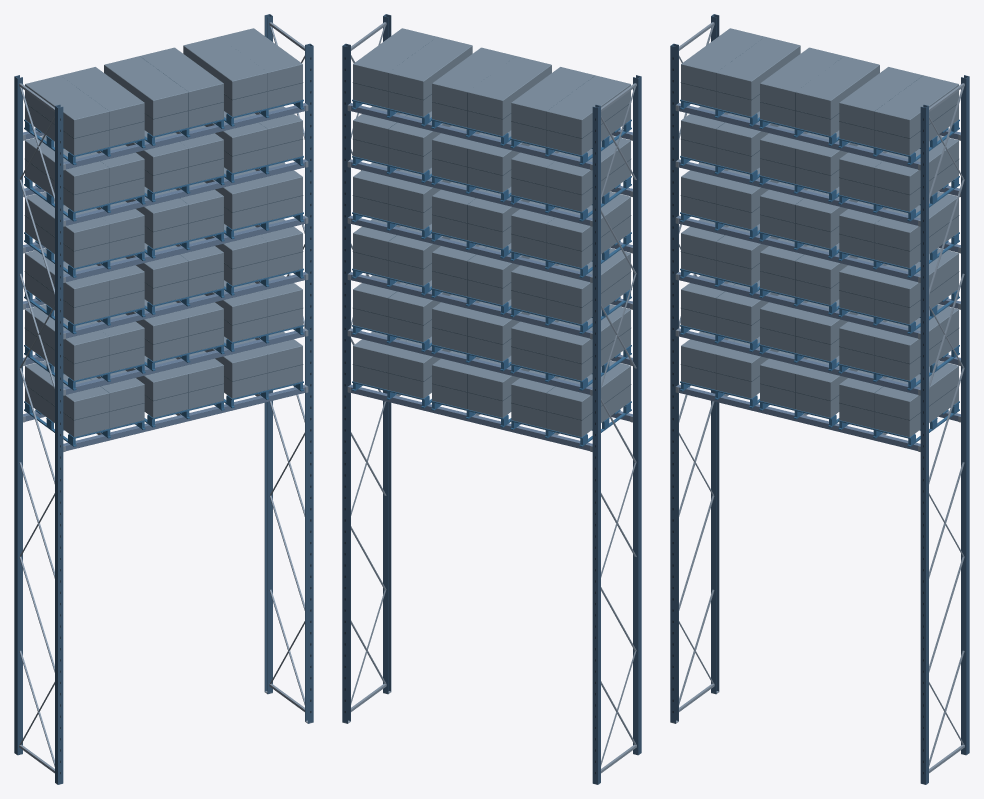
File: SM_GHS_CADRack_B_Pass_W36176.fbx
3 renders of one model, left to right at view 1: azimuth 30°, elevation 25°; view 2: azimuth 150°, elevation 25°; view 3: azimuth 330°, elevation 25°, orthographic.
Parts seen in each view (by area): view 1: SM_GHS_CADRack_B_Pass_W36176; view 2: SM_GHS_CADRack_B_Pass_W36176; view 3: SM_GHS_CADRack_B_Pass_W36176.
Boxes of the visible parts, x1=… form: SM_GHS_CADRack_B_Pass_W36176: x1=14, y1=14, x2=313, y2=784; SM_GHS_CADRack_B_Pass_W36176: x1=342, y1=14, x2=641, y2=784; SM_GHS_CADRack_B_Pass_W36176: x1=670, y1=14, x2=969, y2=784.
Size of the model in its own units: 362 by 122 by 915.
